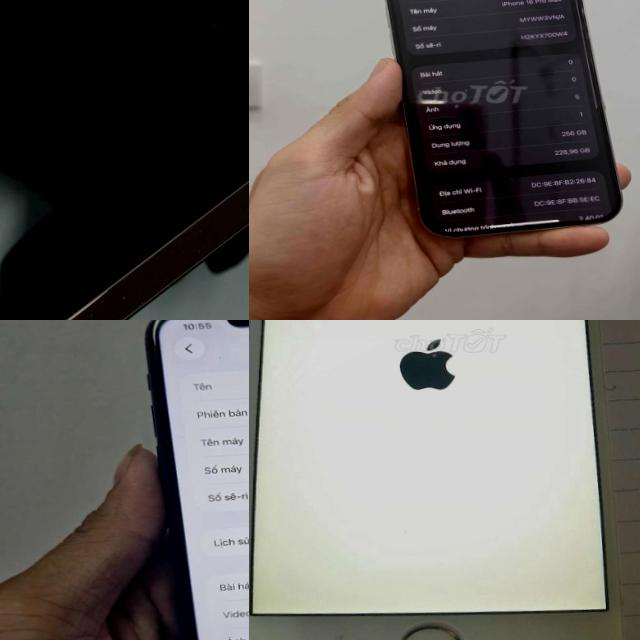gen_11: (121, 320, 249, 640)
gen_14: (1, 98, 249, 320)
gen_16: (369, 0, 629, 243)
gen_6: (249, 320, 621, 640)
